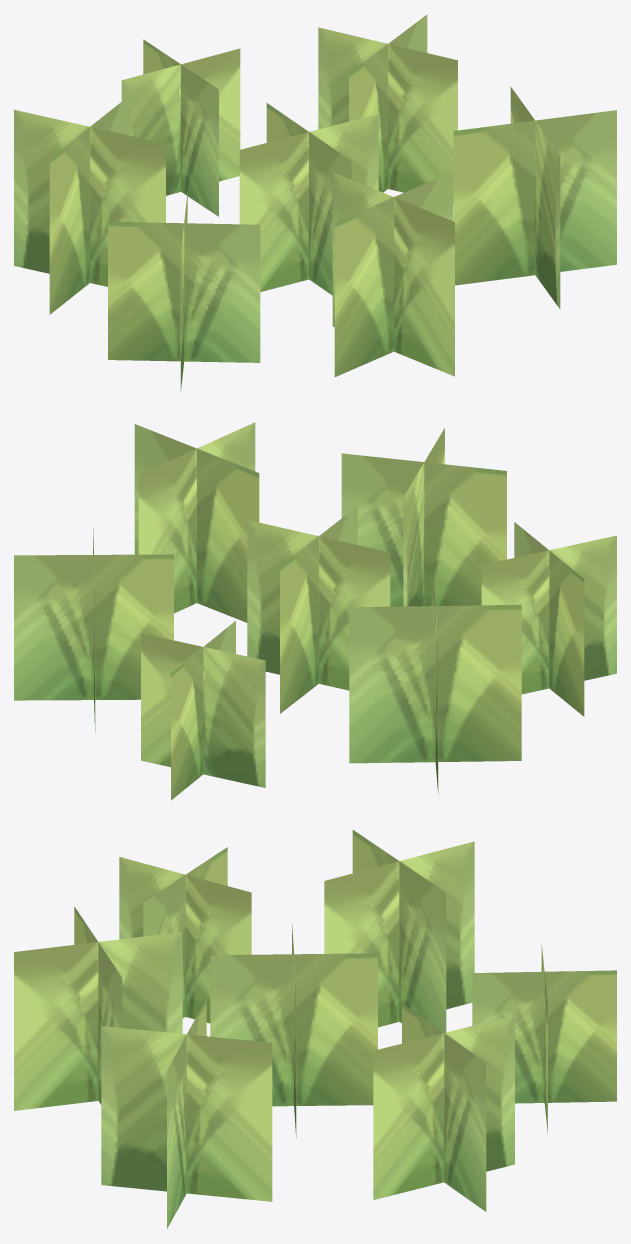
The model's file is crop_wheat_1.glb.
The picture shows the model from 3 angles, top to bottom: view 1: azimuth 30°, elevation 25°; view 2: azimuth 150°, elevation 25°; view 3: azimuth 270°, elevation 25°; orthographic projection. The views are drawn at different scales.
Parts seen in each view (by area): view 1: crop_wheat_1; view 2: crop_wheat_1; view 3: crop_wheat_1.
Part boxes in pixels (x1=…): crop_wheat_1: x1=14, y1=14, x2=616, y2=392; crop_wheat_1: x1=14, y1=422, x2=616, y2=800; crop_wheat_1: x1=14, y1=830, x2=616, y2=1228.
Size of the model in its own units: 0.7086 by 0.2206 by 0.7505.
1 material, 1 textured.
